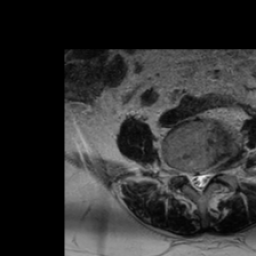CCS_normal: (197, 167, 204, 200)
LFS_severe_stenosis: (213, 156, 222, 183)
LLS_normal: (204, 168, 212, 192)
RFS_stenosis: (180, 161, 189, 187)
RLS_normal: (189, 167, 197, 194)
